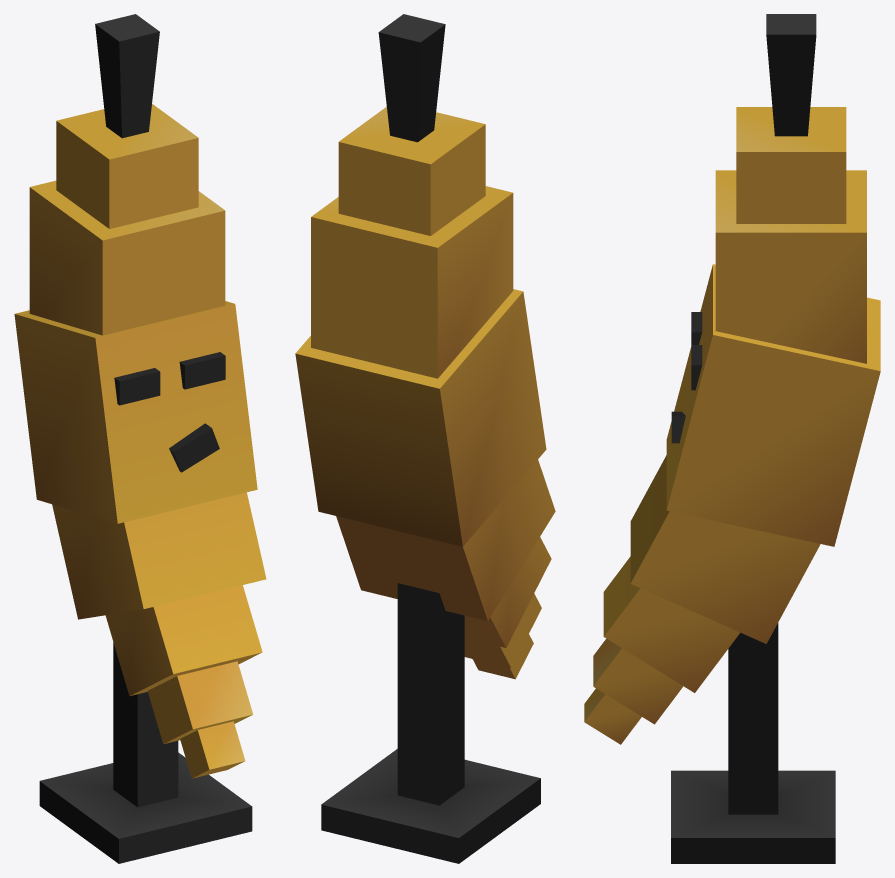
File: test_nana.fbx
The picture shows the model from 3 angles, left to right: view 1: azimuth 30°, elevation 25°; view 2: azimuth 150°, elevation 25°; view 3: azimuth 270°, elevation 25°; orthographic projection. The views are drawn at different scales.
Visible parts, largest first — view 1: mesh_banana3; view 2: mesh_banana3; view 3: mesh_banana3.
Boxes of the visible parts, x1=… form: mesh_banana3: x1=14, y1=14, x2=266, y2=863; mesh_banana3: x1=295, y1=14, x2=555, y2=863; mesh_banana3: x1=584, y1=14, x2=880, y2=863.
Bounding box in the file's own units: 0.3906 × 2.07 × 0.6915.
